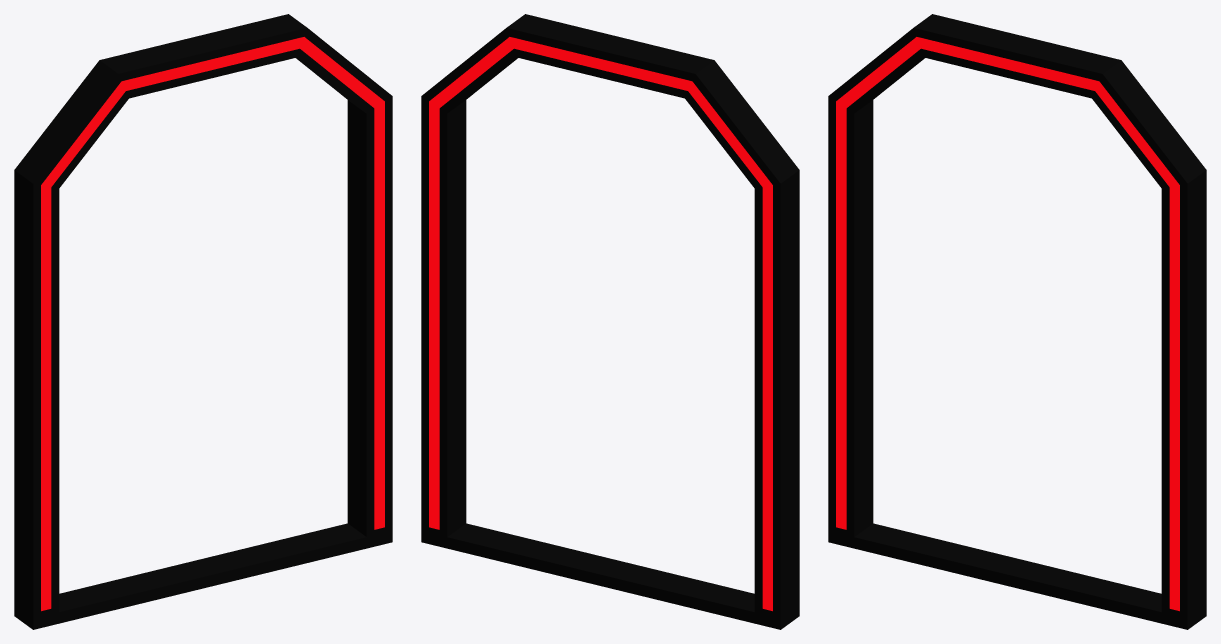
Rendered from NeonDoor.glb.
The picture shows the model from 3 angles, left to right: view 1: azimuth 30°, elevation 25°; view 2: azimuth 150°, elevation 25°; view 3: azimuth 330°, elevation 25°; orthographic projection.
Visible parts, largest first — view 1: Cube; view 2: Cube; view 3: Cube.
Part boxes in pixels (x1=…): Cube: x1=14, y1=14, x2=392, y2=629; Cube: x1=421, y1=14, x2=799, y2=629; Cube: x1=828, y1=14, x2=1206, y2=629.
Bounding box in the file's own units: 1.29 × 1.84 × 0.1178.
